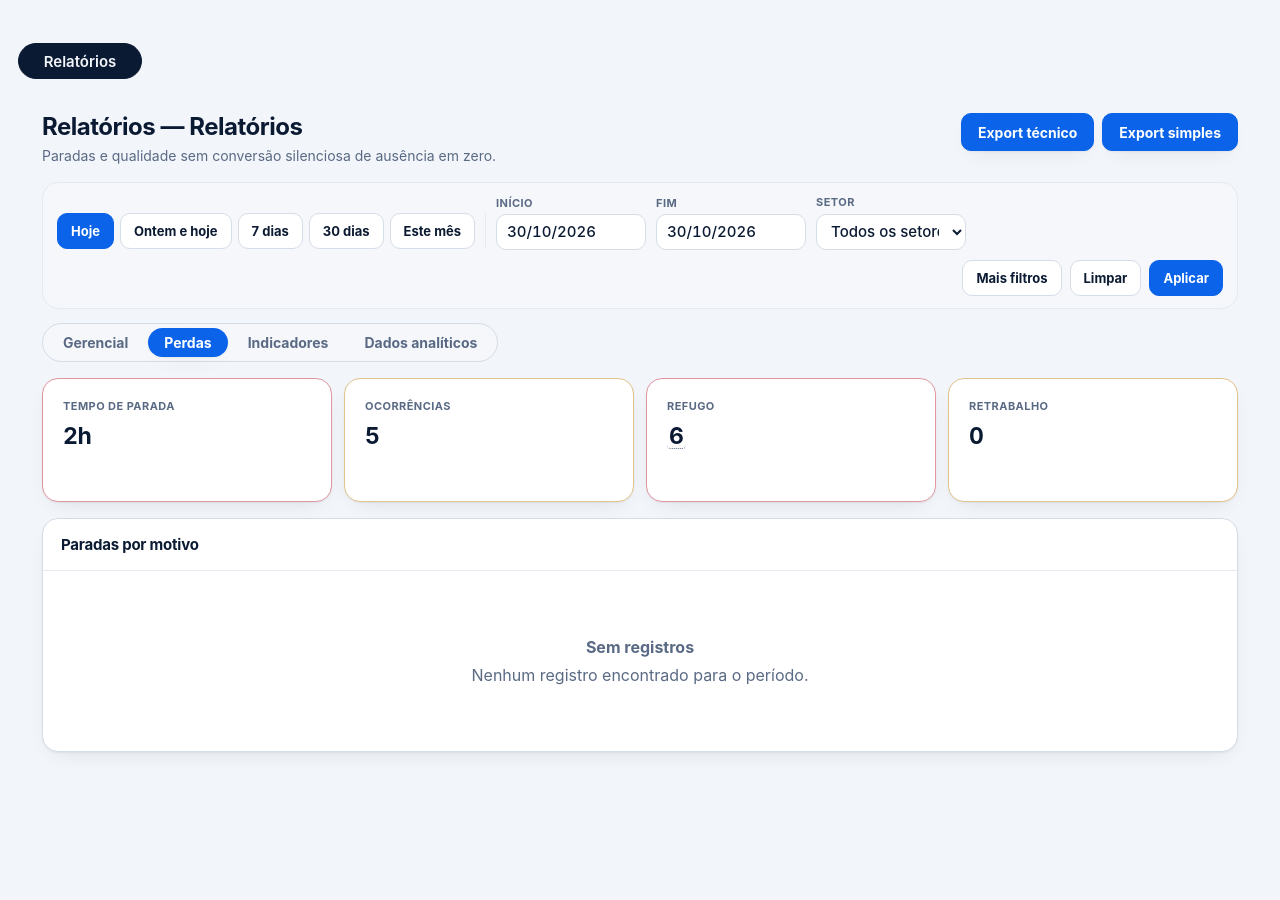
Test: Relatórios: números clicáveis com a conta aberta › Perdas: refugo e retrabalho abrem qld.*; parada e ocorrências ficam texto; retrabalho zero fica texto
Click the button named "Ver de onde vem este número: Refugo 6" at [676, 437], box [667,425,686,449]
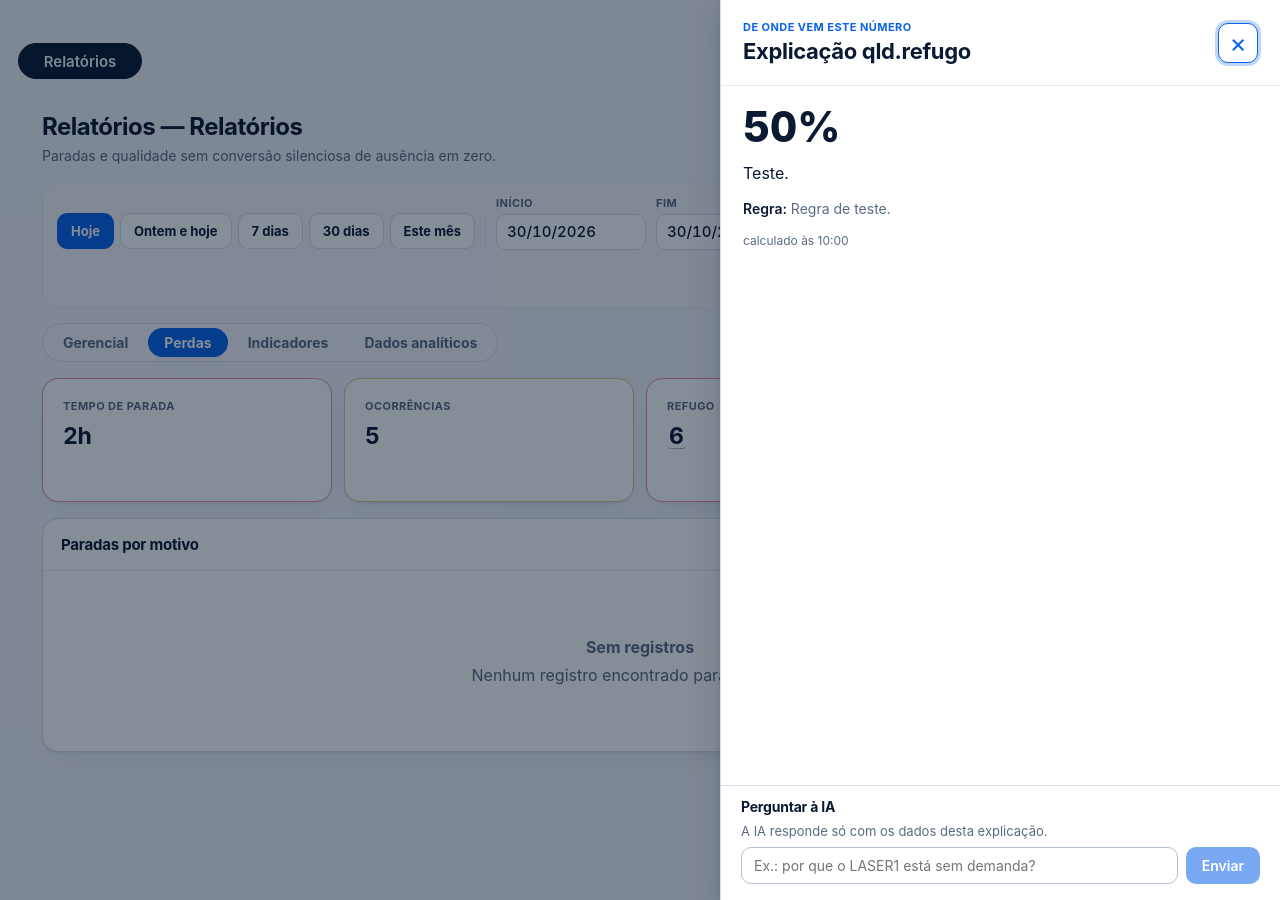
expect the dialog is shown: met, box [720,0,1279,899]
Click the button named "Fechar explicação" at [1238, 42], box [1218,22,1258,62]
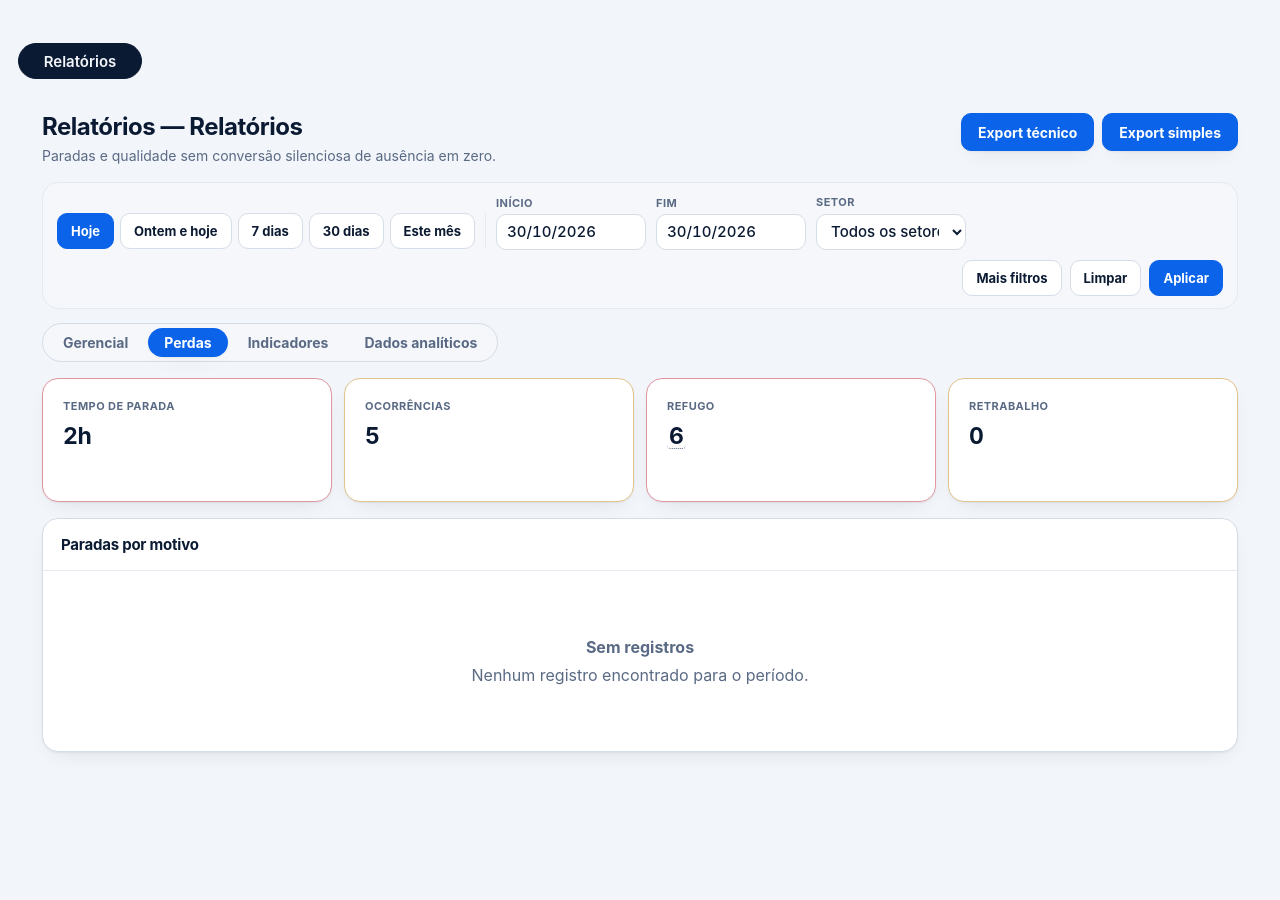
expect the dialog is gone: met
